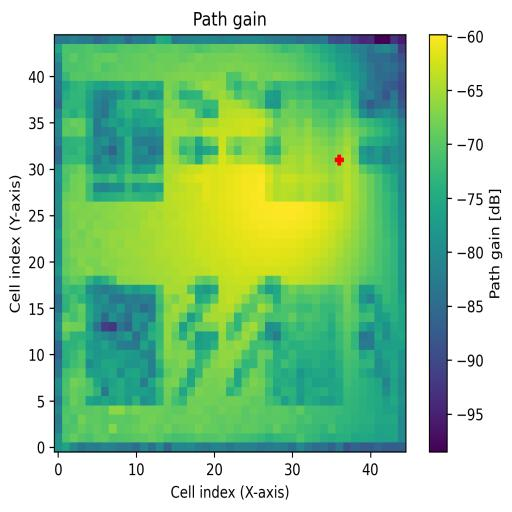Concrete: (266, 90, 344, 203)
Glass: (84, 82, 164, 202)
Metal: (266, 284, 344, 405)
Wood: (85, 284, 163, 405)
